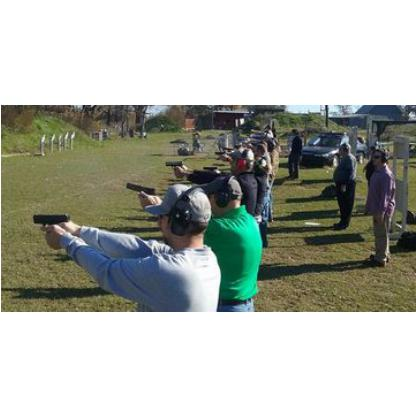gun: (30, 210, 70, 254), (124, 181, 156, 211), (162, 160, 184, 176)
